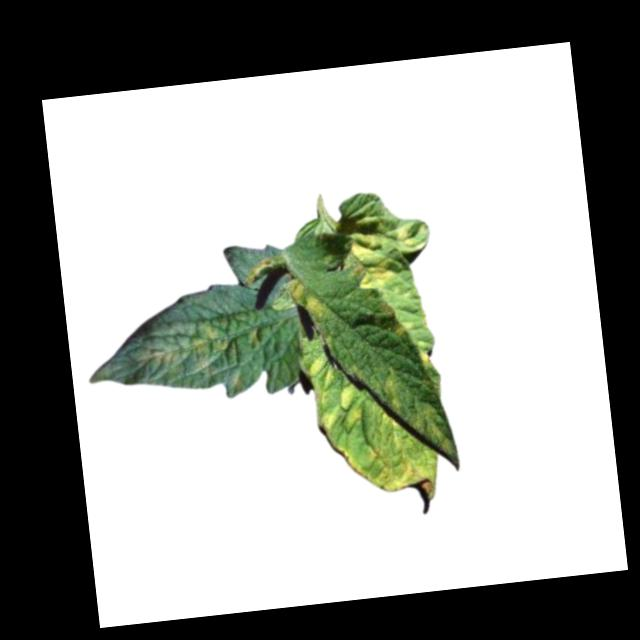Leaf_Mold: (306, 345, 462, 508), (338, 216, 433, 298), (133, 319, 264, 372), (281, 273, 327, 322)
